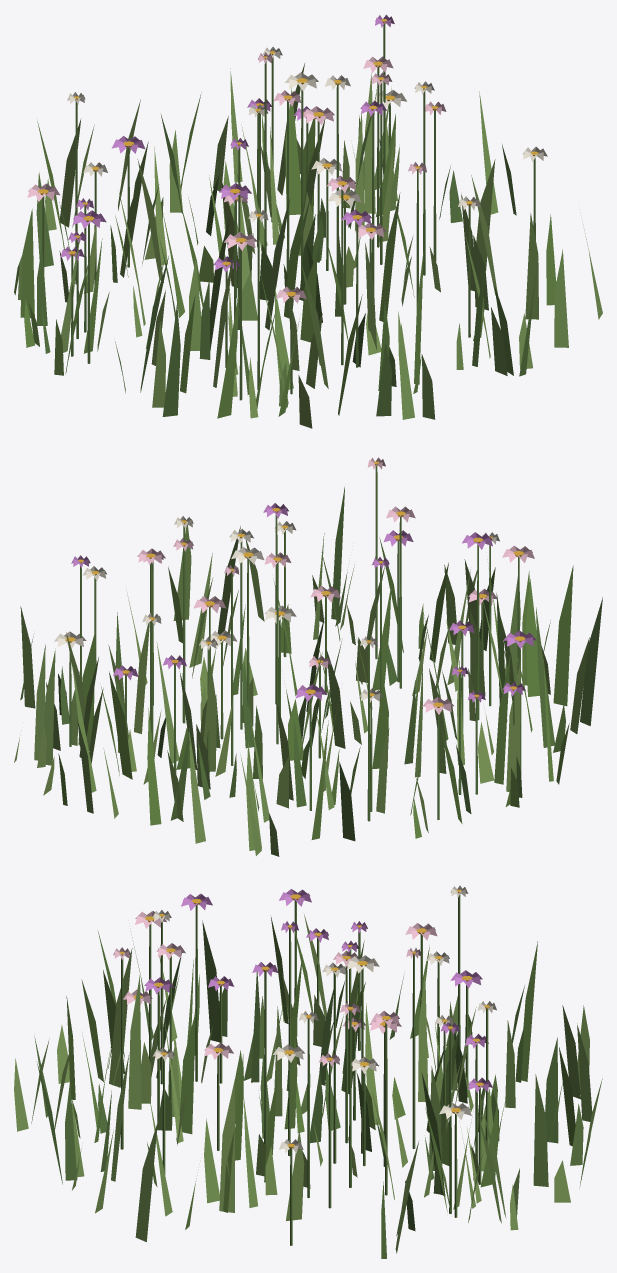
File: flowers-natural.glb
3 views of the same model, one above another, from view 1: azimuth 30°, elevation 25°; view 2: azimuth 150°, elevation 25°; view 3: azimuth 270°, elevation 25° (orthographic). The views are drawn at different scales.
Parts seen in each view (by area): view 1: flowers-natural; view 2: flowers-natural; view 3: flowers-natural.
Boxes of the visible parts, x1,y1,x2,y2 form: flowers-natural: (14, 14, 602, 428); flowers-natural: (14, 457, 602, 856); flowers-natural: (14, 885, 602, 1258).
Size of the model in its own units: 1.61 by 0.6184 by 1.66.
